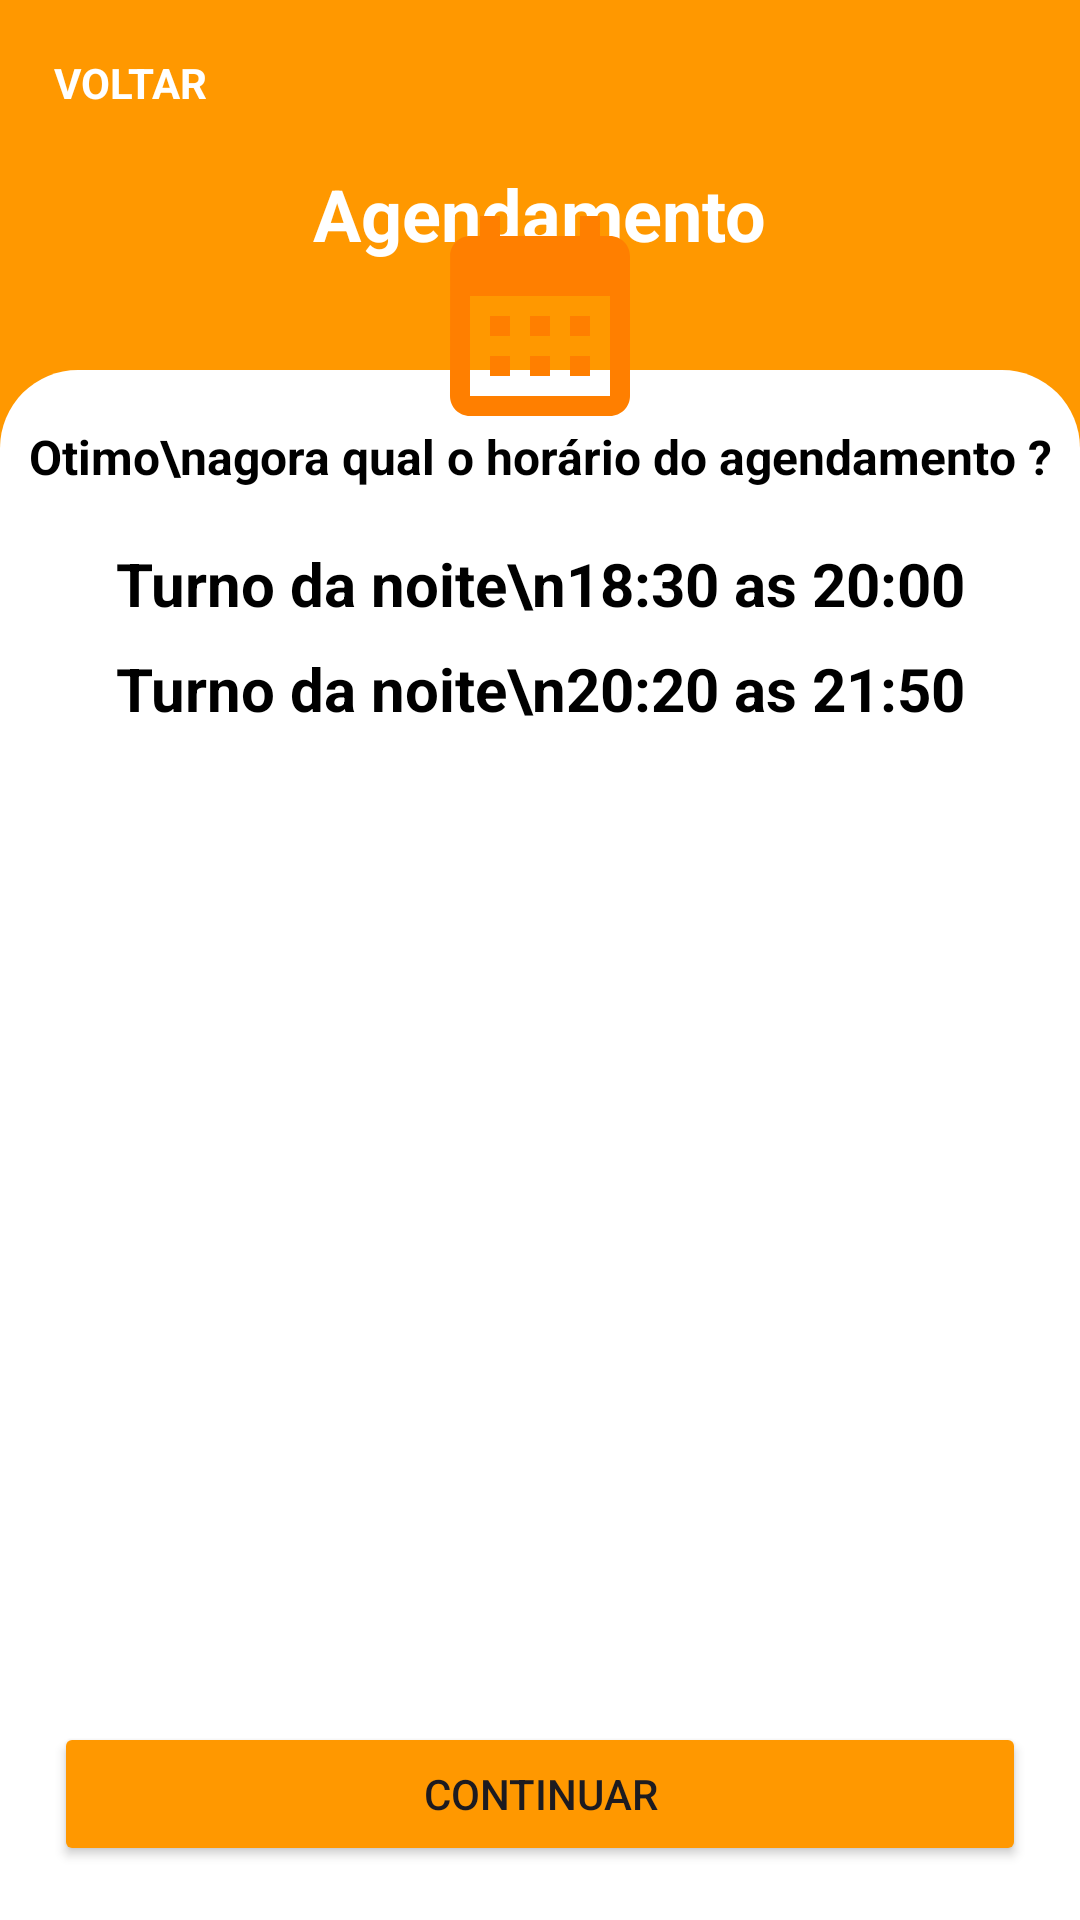

Named icons in this screenshot (1080px×1920px) and their centers, (x,y):
calendar month: (540,316)
